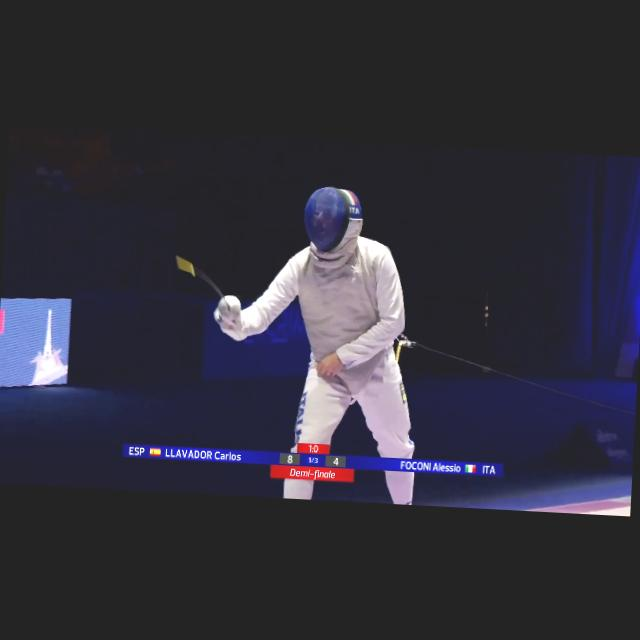blade: (168, 256, 237, 316)
